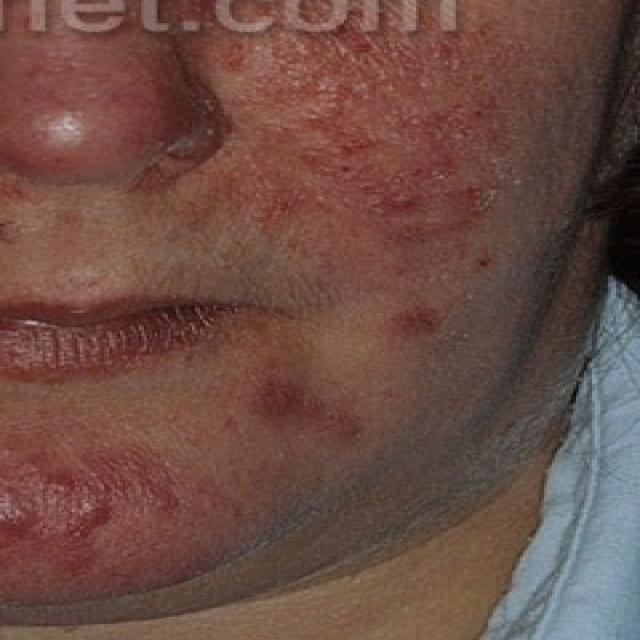Rosacea: (271, 68, 505, 246), (1, 452, 178, 569)
